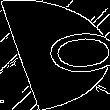O_W: (6, 29, 104, 81)
